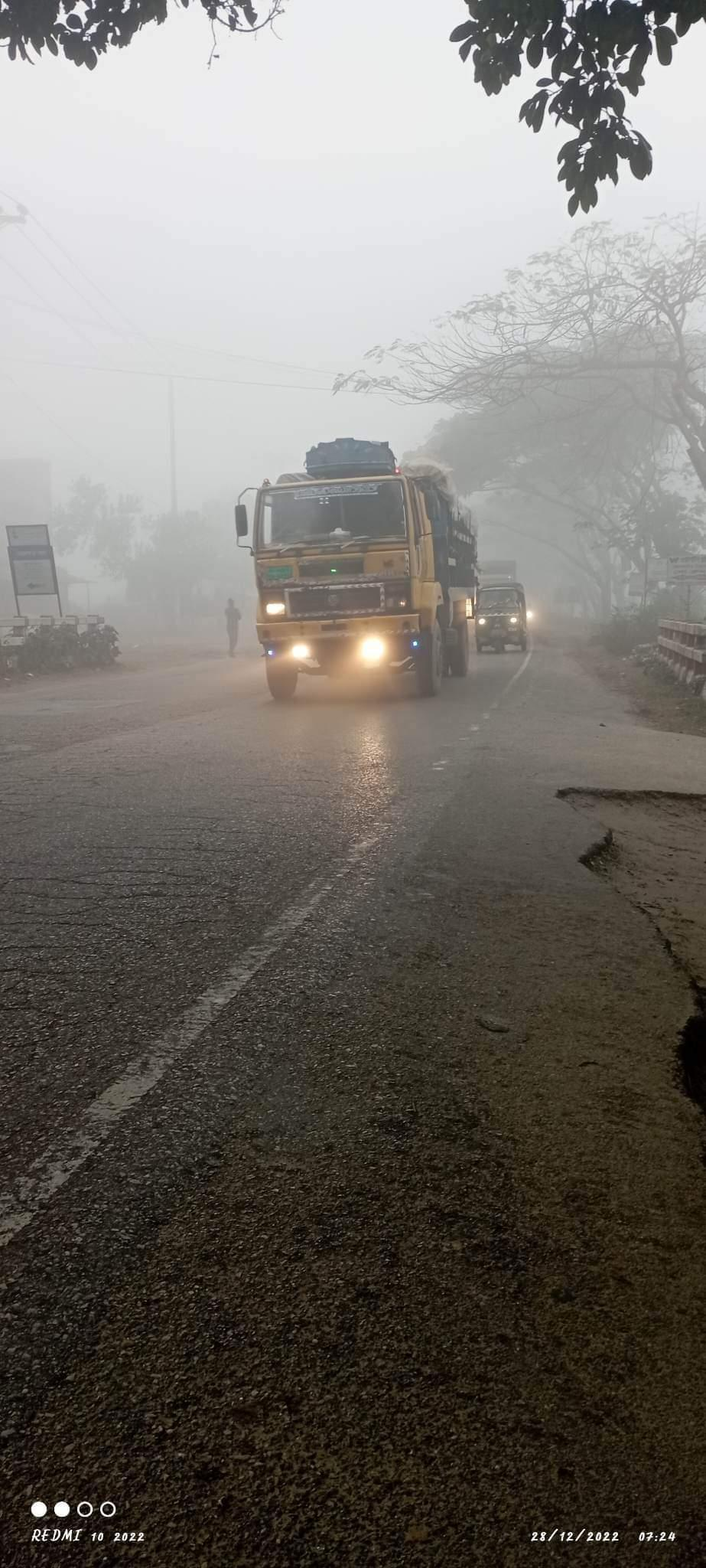Truck: (226, 436, 483, 710)
